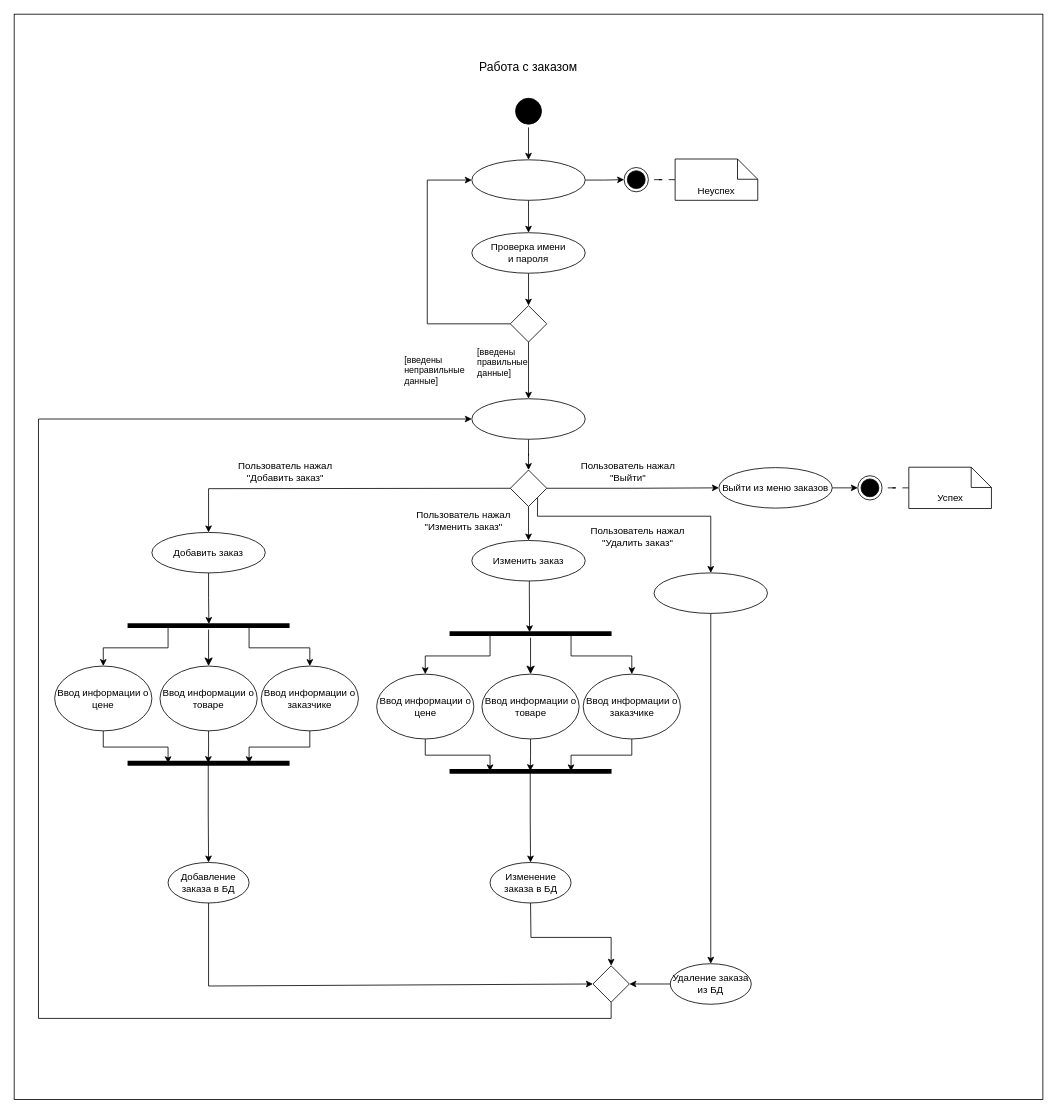
Image size: 1057x1114. Some labels were removed from this diagram. The shapes that lost their labels are listed below. From the top down, each one's centre as x and y in pixels, then its label:
At (528,179): "Ввод имени и пароля".
At (528,418): "Отображение списка заказов".
At (710,592): "Удалить заказ".
